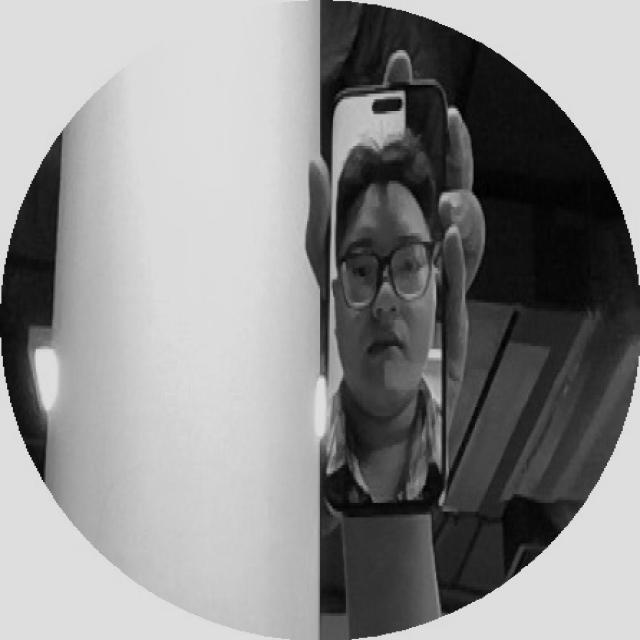fake: (306, 75, 462, 526), (306, 80, 462, 525)
